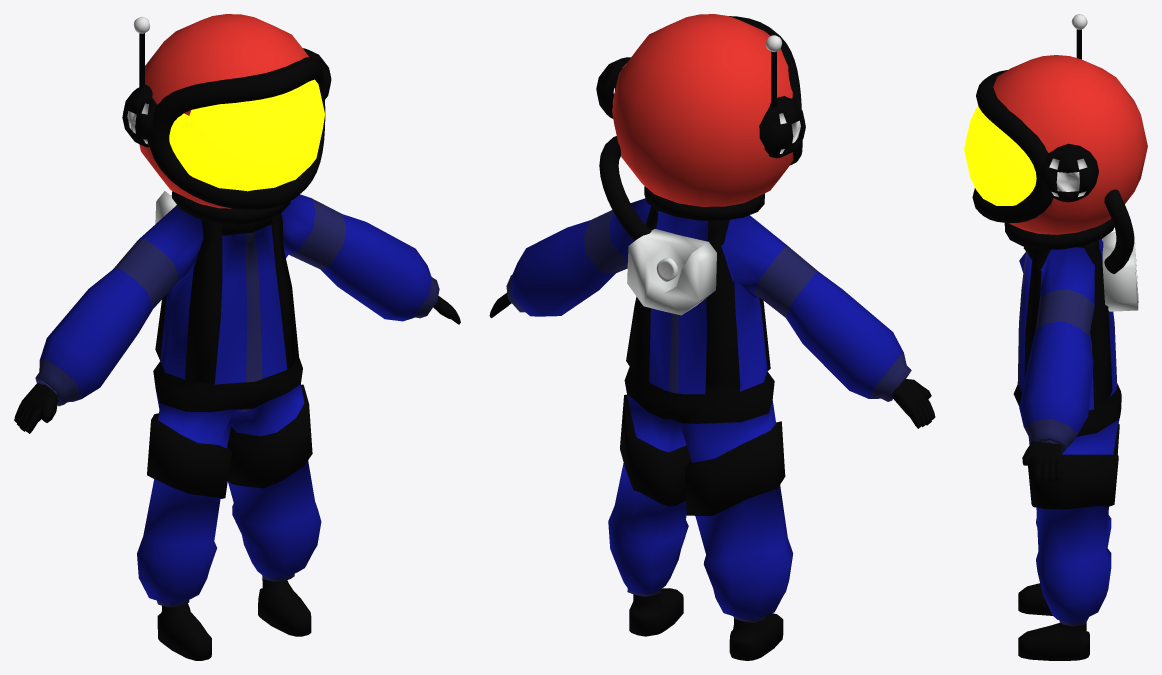
Rendered from Astronautfix01.fbx.
3 views of the same model, side by side, from view 1: azimuth 30°, elevation 25°; view 2: azimuth 150°, elevation 25°; view 3: azimuth 270°, elevation 25° (orthographic). The views are drawn at different scales.
Parts seen in each view (by area): view 1: body.001, helmet.001, helmetring.001, shoes.001, helmetearmuf.001, hand.001, helmetneckring.001; view 2: body.001, helmet.001, backpack.001, shoes.001, helmetearmuf.001, O2Tube.001, helmetneckring.001, hand.001, helmetring.001; view 3: body.001, helmet.001, helmetring.001, shoes.001, helmetearmuf.001, backpack.001, helmetneckring.001, O2Tube.001, hand.001, helmetmaroo.001.
Boxes of the visible parts, left/top/right/bottom form: body.001: left=35, top=194, right=439, bottom=607; helmet.001: left=139, top=14, right=324, bottom=208; helmetring.001: left=149, top=57, right=325, bottom=209; shoes.001: left=157, top=578, right=311, bottom=660; helmetearmuf.001: left=122, top=48, right=331, bottom=147; hand.001: left=14, top=296, right=460, bottom=433; helmetneckring.001: left=172, top=191, right=290, bottom=224; body.001: left=506, top=198, right=911, bottom=622; helmet.001: left=612, top=14, right=793, bottom=206; backpack.001: left=627, top=229, right=716, bottom=315; shoes.001: left=629, top=588, right=783, bottom=660; helmetearmuf.001: left=596, top=57, right=805, bottom=158; O2Tube.001: left=599, top=136, right=651, bottom=240; helmetneckring.001: left=644, top=186, right=764, bottom=220; hand.001: left=489, top=293, right=935, bottom=428; helmetring.001: left=729, top=16, right=802, bottom=165; body.001: left=1013, top=239, right=1121, bottom=626; helmet.001: left=964, top=55, right=1147, bottom=234; helmetring.001: left=972, top=70, right=1053, bottom=223; shoes.001: left=1018, top=583, right=1089, bottom=660; helmetearmuf.001: left=1040, top=143, right=1098, bottom=202; backpack.001: left=1102, top=231, right=1138, bottom=311; helmetneckring.001: left=1004, top=218, right=1114, bottom=249; O2Tube.001: left=1104, top=189, right=1134, bottom=273; hand.001: left=1022, top=441, right=1061, bottom=482; helmetmaroo.001: left=1071, top=14, right=1087, bottom=59.
Bounding box in the file's own units: 217 × 299 × 85.78.
